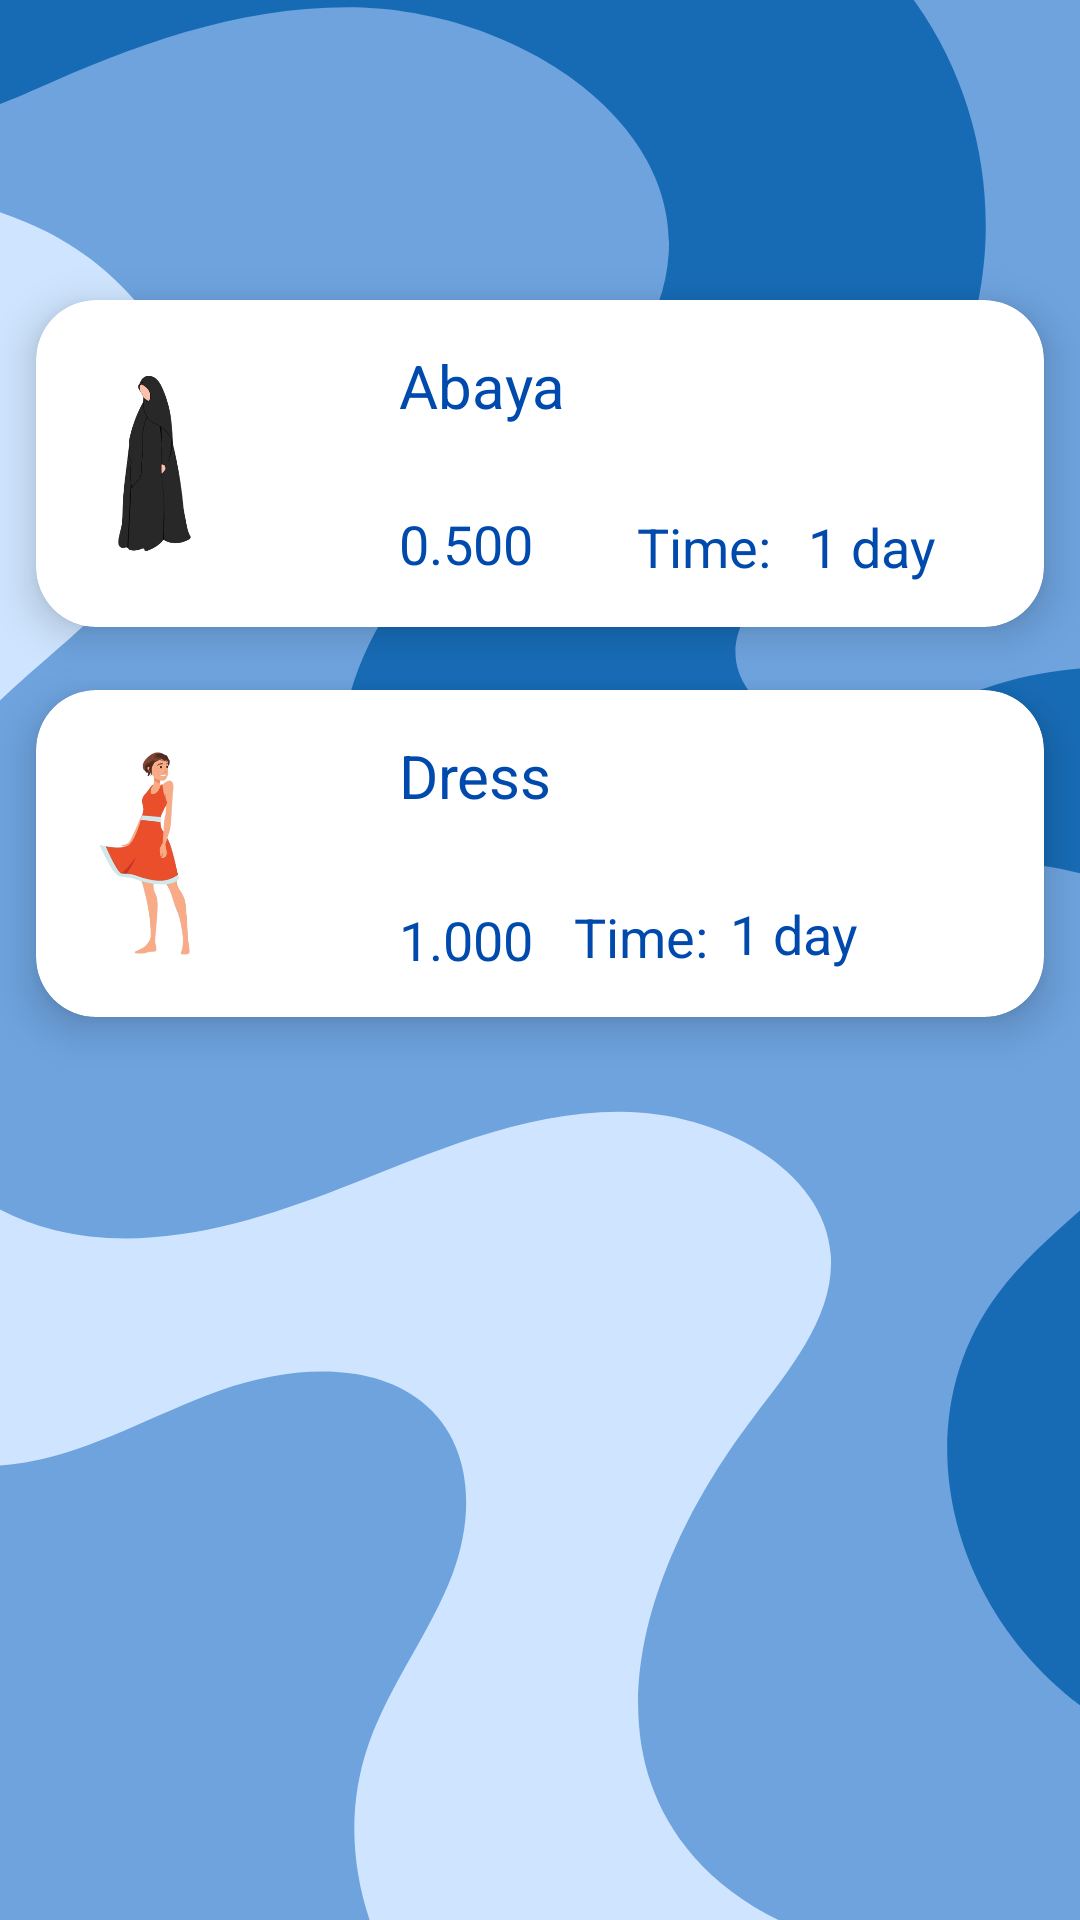

Locate icon controls on the screen. Image size 1080 × 1920, boxes as (x1, y1, x2, y2).
abaya: (118, 376, 191, 551)
dress: (100, 752, 190, 955)
